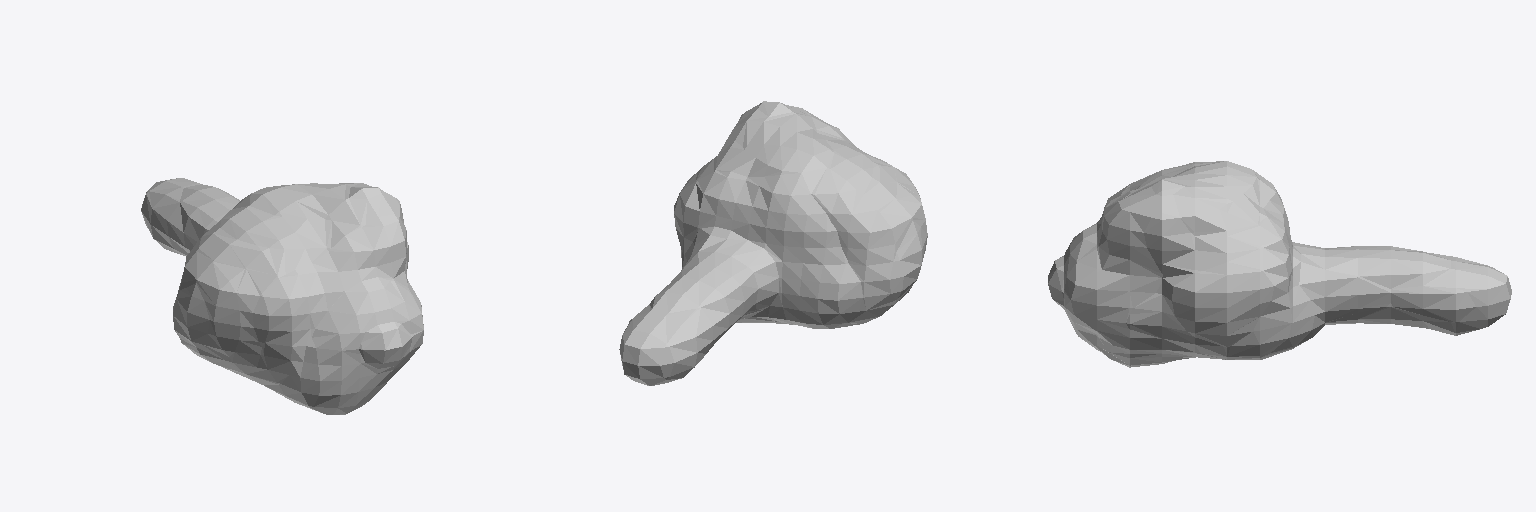
Rendered from 3ngq_aligned_cms.obj.
3 views of the same model, side by side, from view 1: azimuth 30°, elevation 25°; view 2: azimuth 150°, elevation 25°; view 3: azimuth 270°, elevation 25° (orthographic).
Size of the model in its own units: 70.1 by 59.57 by 126.